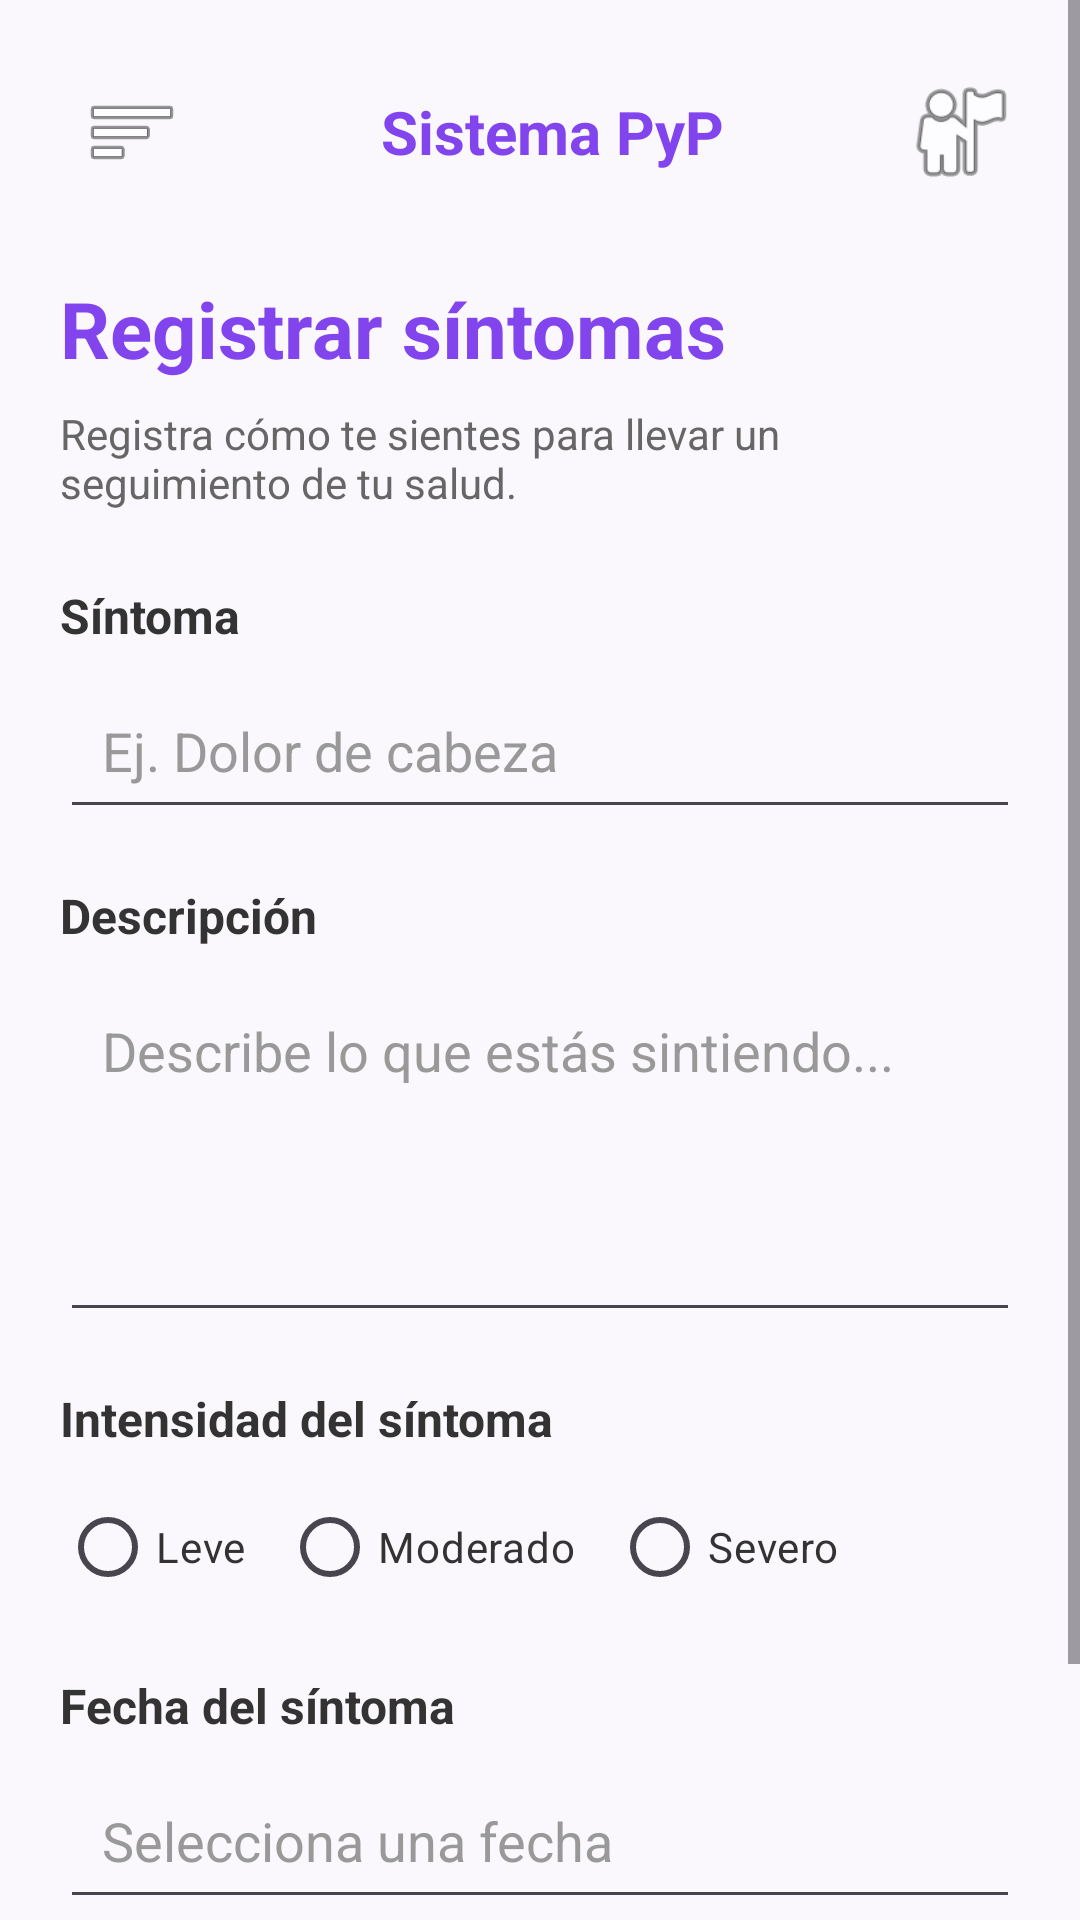

Locate icon controls on the screen. Image size 1080×1920, boxes as box(x1, y1, x2, y2).
Abrir menú: box(91, 106, 173, 159)
Perfil: box(916, 87, 1006, 177)
